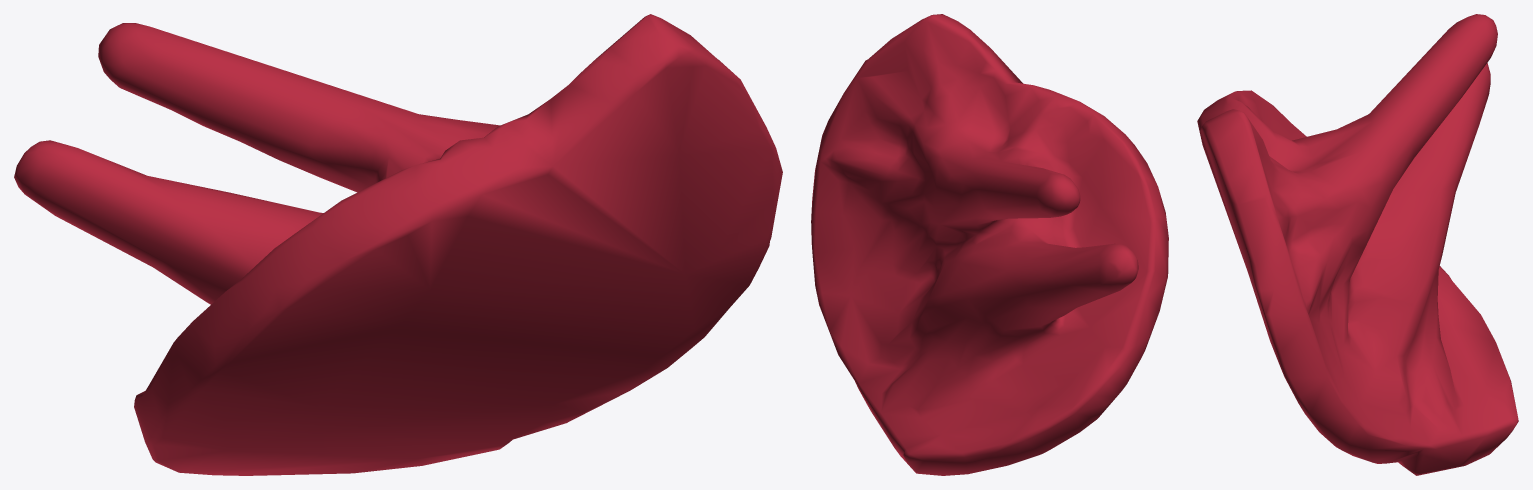
The model's file is anterior-papillary-muscle-of-right-ventricle.glb.
3 renders of one model, left to right at view 1: azimuth 30°, elevation 25°; view 2: azimuth 150°, elevation 25°; view 3: azimuth 270°, elevation 25°, orthographic. The views are drawn at different scales.
Visible parts, largest first — view 1: Anterior papillary muscle of right ventricle; view 2: Anterior papillary muscle of right ventricle; view 3: Anterior papillary muscle of right ventricle.
Boxes of the visible parts, x1,y1,x2,y2 form: Anterior papillary muscle of right ventricle: (14,14,782,475); Anterior papillary muscle of right ventricle: (811,14,1168,475); Anterior papillary muscle of right ventricle: (1197,14,1518,475).
Size of the model in its own units: 0.0364 by 0.0303 by 0.0223.
